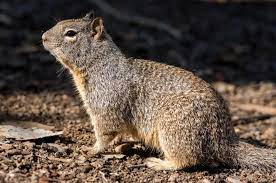squirrel: (40, 10, 276, 170)
